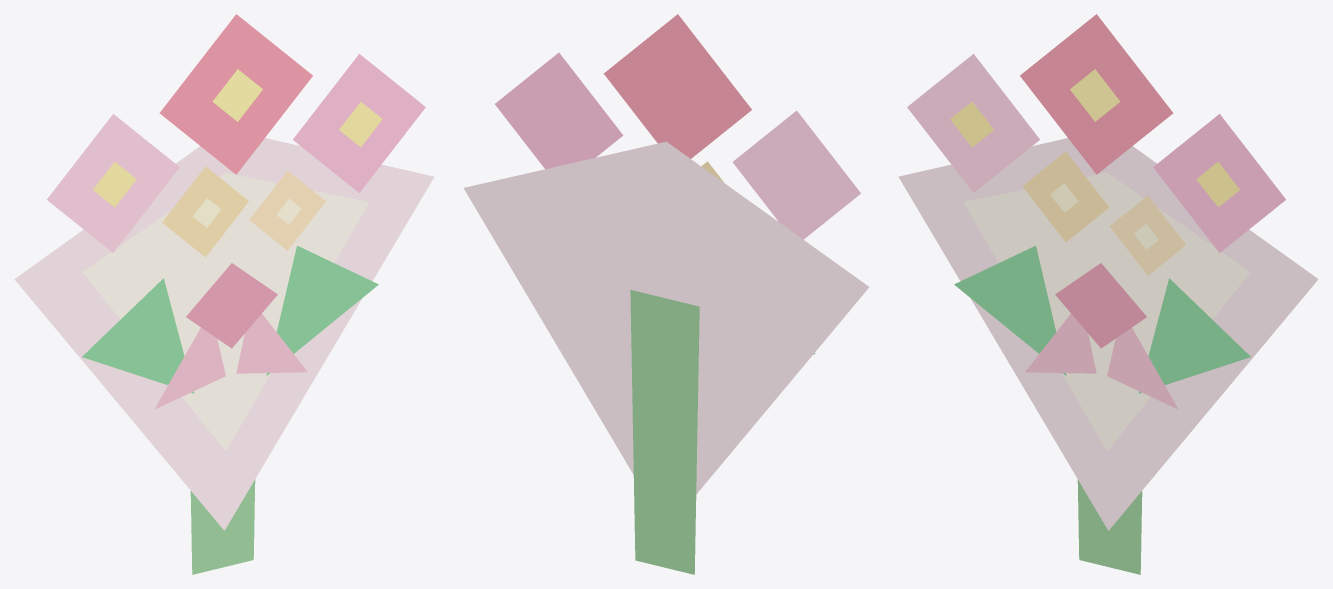
File: bouquet.gltf
3 views of the same model, side by side, from view 1: azimuth 30°, elevation 25°; view 2: azimuth 150°, elevation 25°; view 3: azimuth 330°, elevation 25° (orthographic). The views are drawn at different scales.
Visible parts, largest first — view 1: Bouquet; view 2: Bouquet; view 3: Bouquet.
Part boxes in pixels (box(x1,y1,x2,y2)): Bouquet: box(14, 14, 434, 574); Bouquet: box(463, 14, 869, 574); Bouquet: box(898, 14, 1318, 574).
Size of the model in its own units: 1.64 by 2.1 by 0.1.
